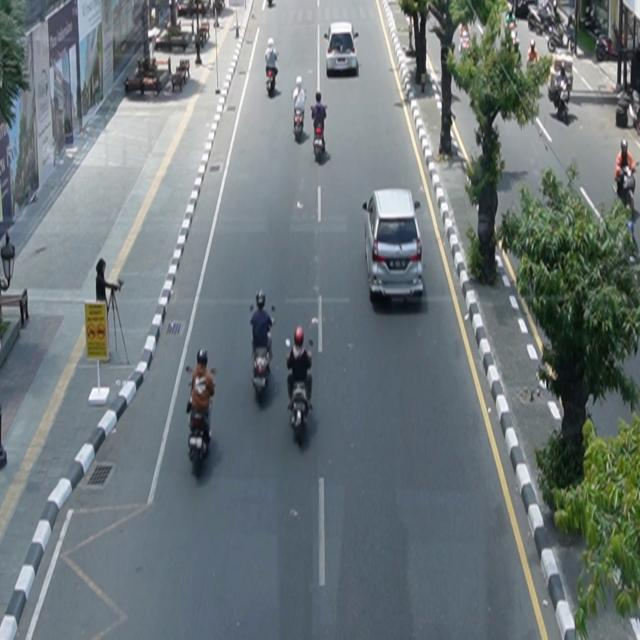car: (363, 188, 425, 305), (325, 22, 361, 77)
